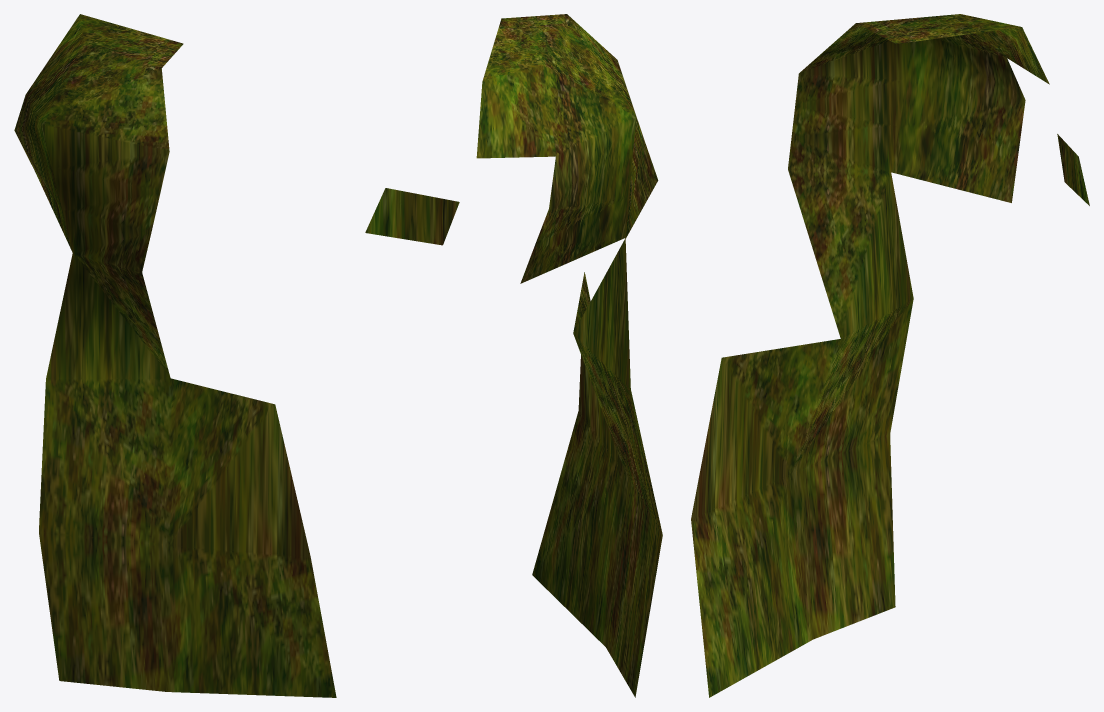
The model's file is TROLLHOLE02_RM_PSURF99.fbx.
The picture shows the model from 3 angles, left to right: view 1: azimuth 30°, elevation 25°; view 2: azimuth 150°, elevation 25°; view 3: azimuth 270°, elevation 25°; orthographic projection. The views are drawn at different scales.
Visible parts, largest first — view 1: TROLLHOLE02_RM_PSURF99; view 2: TROLLHOLE02_RM_PSURF99; view 3: TROLLHOLE02_RM_PSURF99.
Boxes of the visible parts, x1,y1,x2,y2 form: TROLLHOLE02_RM_PSURF99: (14, 14, 336, 697); TROLLHOLE02_RM_PSURF99: (365, 14, 662, 697); TROLLHOLE02_RM_PSURF99: (691, 14, 1089, 697).
Size of the model in its own units: 29456 by 81235 by 46918.
1 material, 1 textured.
